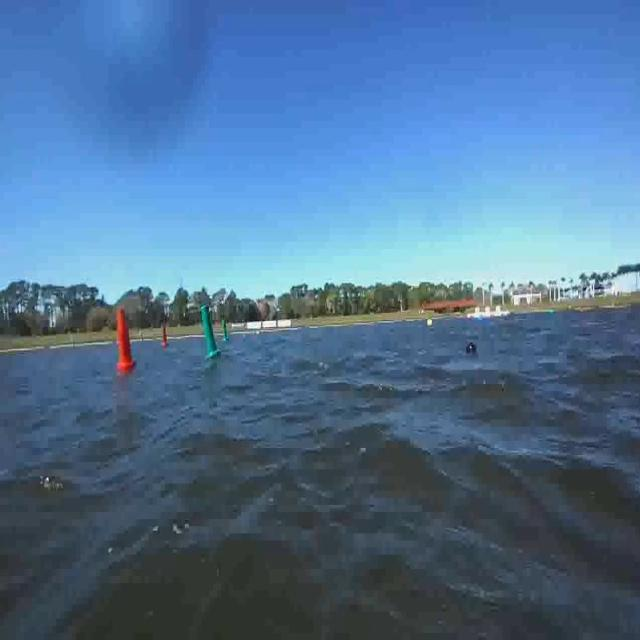black-buoy: (466, 342, 476, 356)
green-column-buoy: (199, 306, 223, 360), (220, 318, 228, 341)
red-column-buoy: (116, 309, 137, 372), (160, 325, 168, 349)
